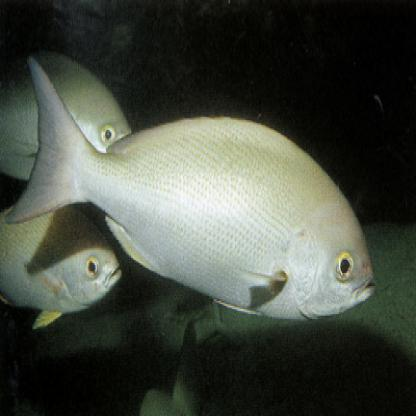Bio: (6, 50, 381, 326)
